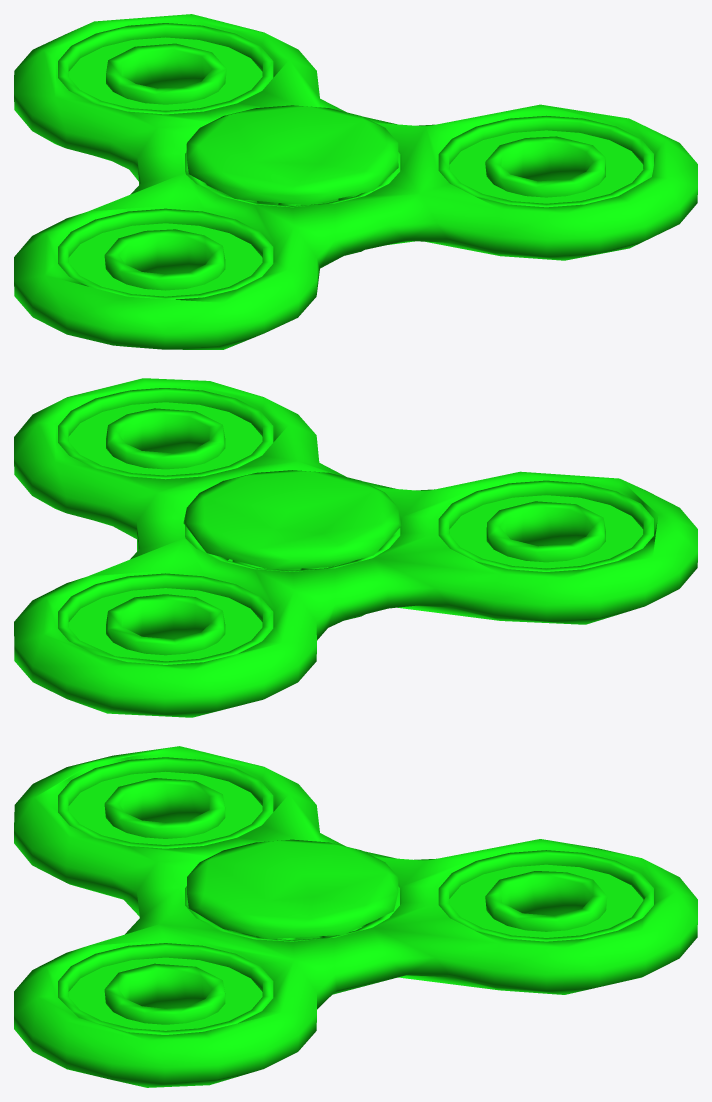
Rendered from Spinner.obj.
3 views of the same model, one above another, from view 1: azimuth 30°, elevation 25°; view 2: azimuth 150°, elevation 25°; view 3: azimuth 270°, elevation 25° (orthographic).
Parts seen in each view (by area): view 1: Object004; view 2: Object004; view 3: Object004.
Boxes of the visible parts, left/top/right/bottom form: Object004: left=14, top=14, right=697, bottom=349; Object004: left=14, top=378, right=697, bottom=717; Object004: left=14, top=746, right=697, bottom=1087.
Bounding box in the file's own units: 4.91 × 0.5521 × 4.49.
1 material, 1 textured.
